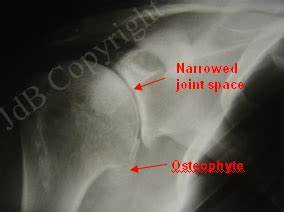telestration: (174, 60, 245, 91), (170, 159, 243, 175), (133, 76, 168, 91), (127, 159, 167, 172)
